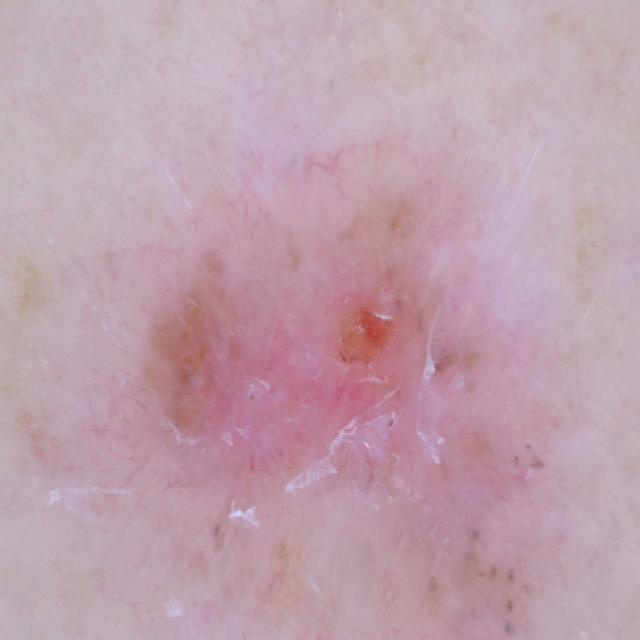Carcinoma: (87, 174, 535, 622)
